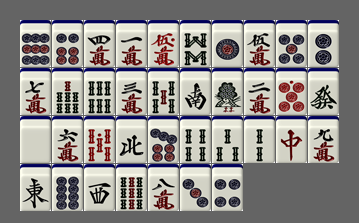0m: (148, 20, 179, 67)
0p: (276, 68, 307, 115)
0s: (84, 116, 115, 163)
1m: (116, 20, 147, 67)
1p: (212, 20, 243, 67)
1s: (212, 68, 243, 115)
1z: (20, 164, 51, 211)
2m: (244, 68, 275, 115)
2p: (308, 20, 339, 67)
2s: (244, 116, 275, 163)
2z: (180, 68, 211, 115)
3m: (116, 68, 147, 115)
3p: (180, 164, 211, 211)
3s: (212, 116, 243, 163)
3z: (84, 164, 115, 211)
4m: (84, 20, 115, 67)
4p: (212, 164, 243, 211)
4s: (180, 116, 211, 163)
4z: (116, 116, 147, 163)
5m: (244, 20, 275, 67)
5p: (276, 20, 307, 67)
5s: (148, 68, 179, 115)
5z: (20, 116, 51, 163)
6m: (52, 116, 83, 163)
6p: (52, 20, 83, 67)
6s: (84, 68, 115, 115)
6z: (308, 68, 339, 115)
7m: (20, 68, 51, 115)
7p: (148, 116, 179, 163)
7s: (52, 68, 83, 115)
7z: (276, 116, 307, 163)
8m: (148, 164, 179, 211)
8p: (52, 164, 83, 211)
8s: (180, 20, 211, 67)
9m: (308, 116, 339, 163)
9p: (20, 20, 51, 67)
9s: (116, 164, 147, 211)
